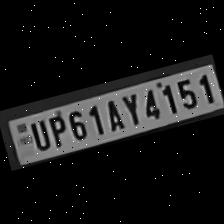1: (192, 68, 220, 106), (82, 100, 108, 137), (155, 79, 179, 115)
4: (135, 84, 164, 122)
5: (171, 74, 200, 111)
6: (62, 106, 90, 142)
A: (98, 95, 126, 133)
P: (43, 110, 70, 148)
U: (25, 116, 51, 152)
Y: (117, 88, 144, 128)
